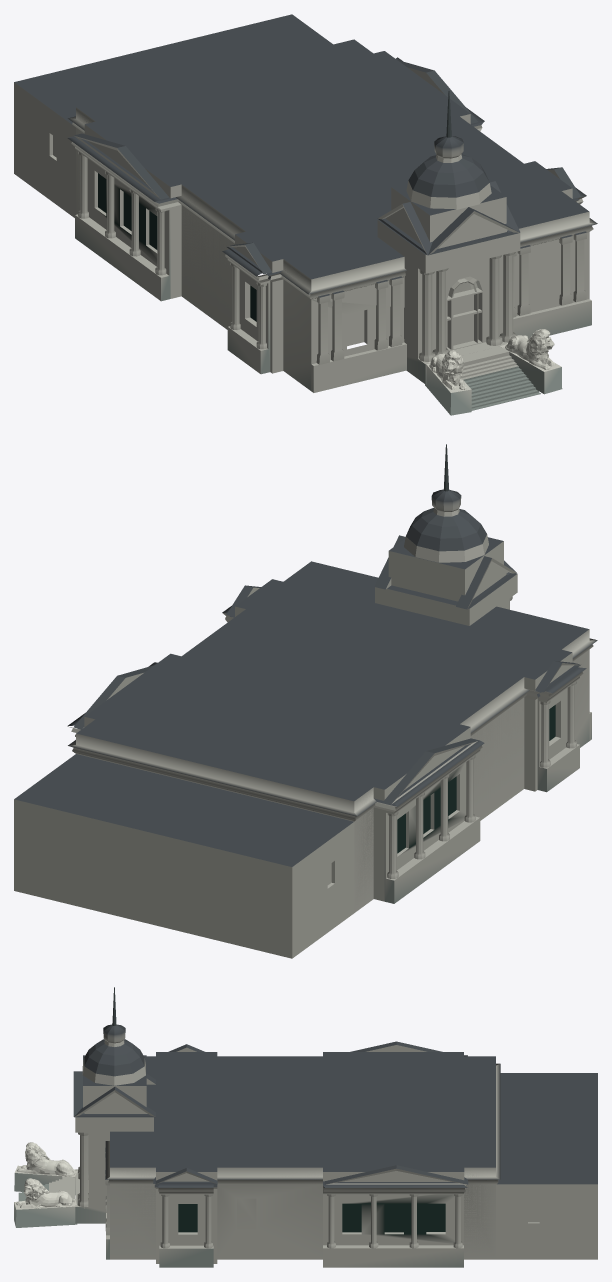
The picture shows the model from 3 angles, top to bottom: view 1: azimuth 30°, elevation 25°; view 2: azimuth 150°, elevation 25°; view 3: azimuth 270°, elevation 25°; orthographic projection. The views are drawn at different scales.
Visible parts, largest first — view 1: pCube29:PIV; view 2: pCube29:PIV; view 3: pCube29:PIV.
Boxes of the visible parts, x1,y1,x2,y2 form: pCube29:PIV: (14,14,597,415); pCube29:PIV: (14,444,597,958); pCube29:PIV: (14,987,597,1267).
Size of the model in its own units: 174 by 135 by 324.
